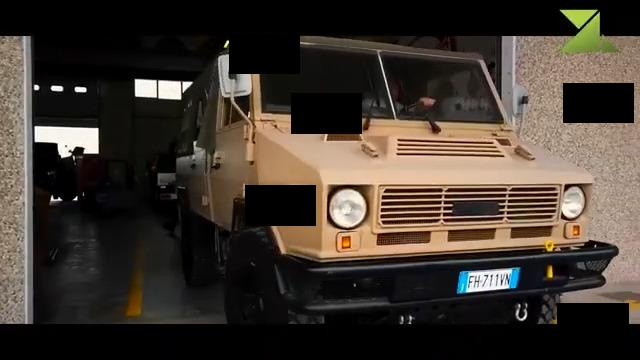MIL_HMMWV: (174, 33, 620, 326)
